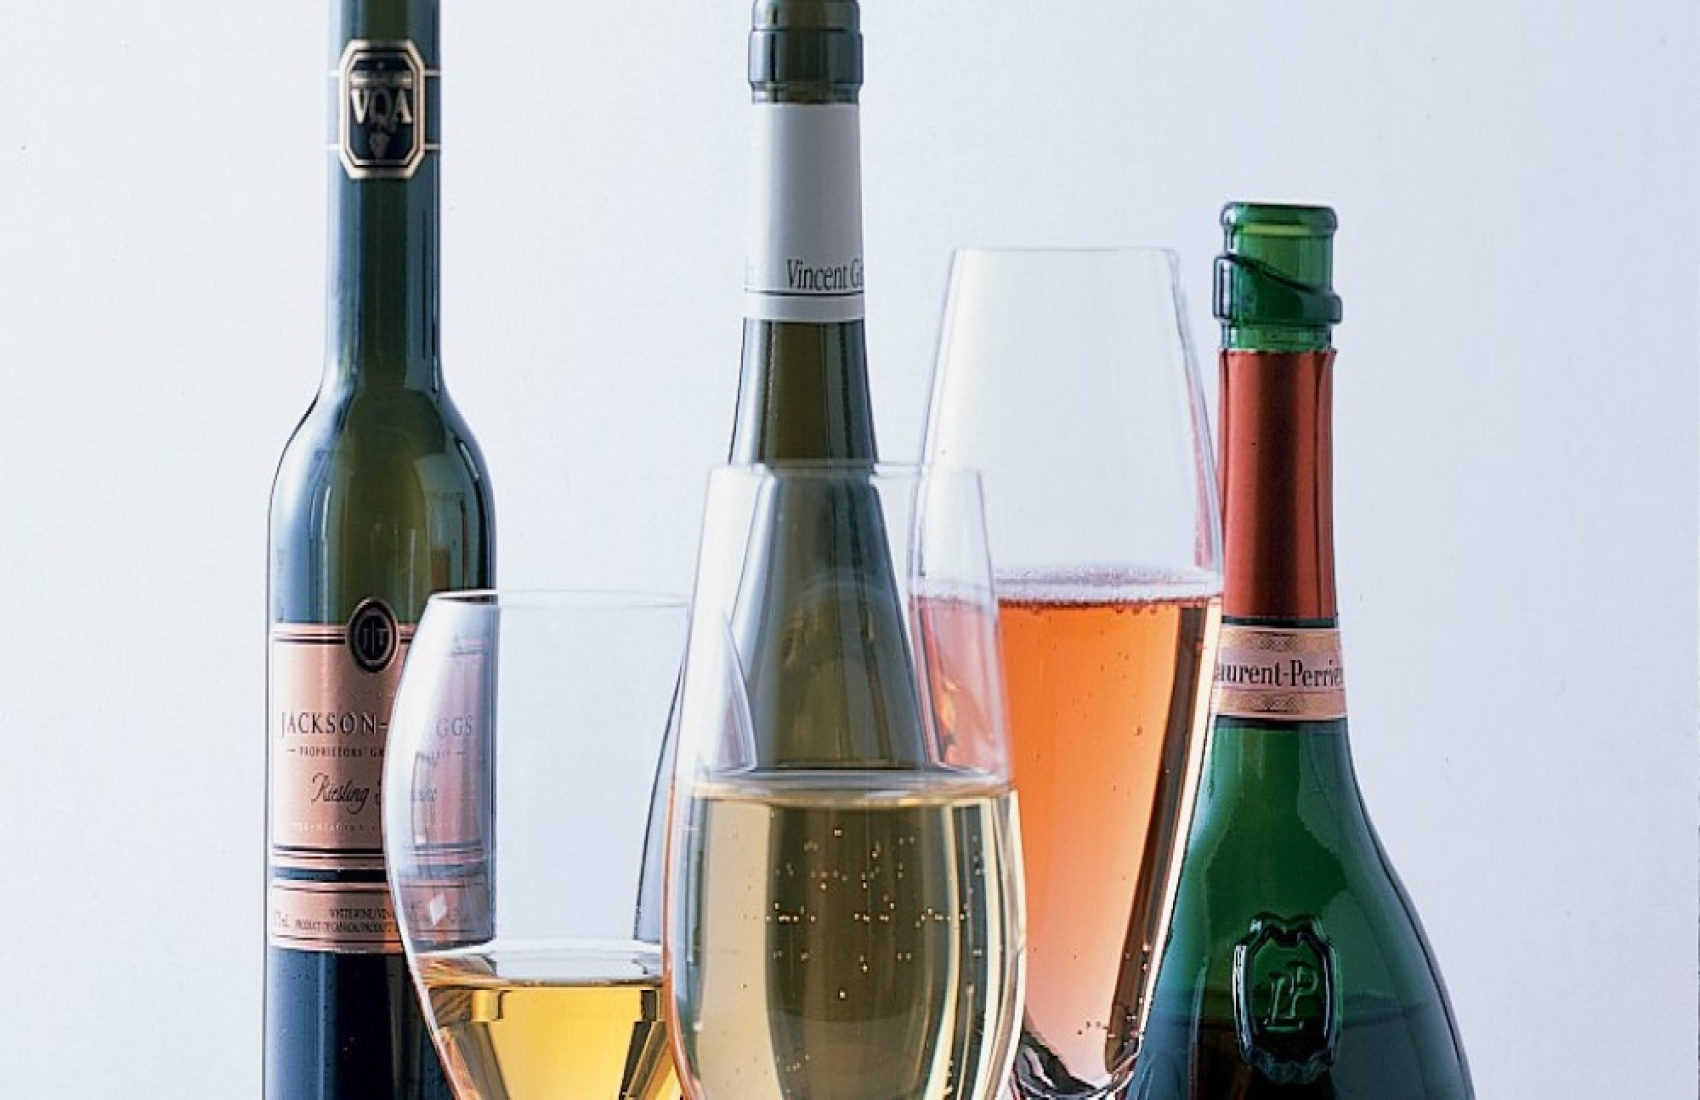wine: (1118, 197, 1474, 1100), (651, 1, 935, 1100), (263, 5, 501, 1100)
